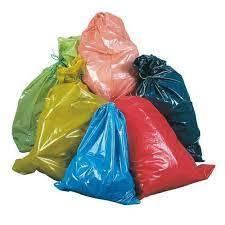LDPE: (48, 90, 158, 214), (66, 3, 151, 101)
